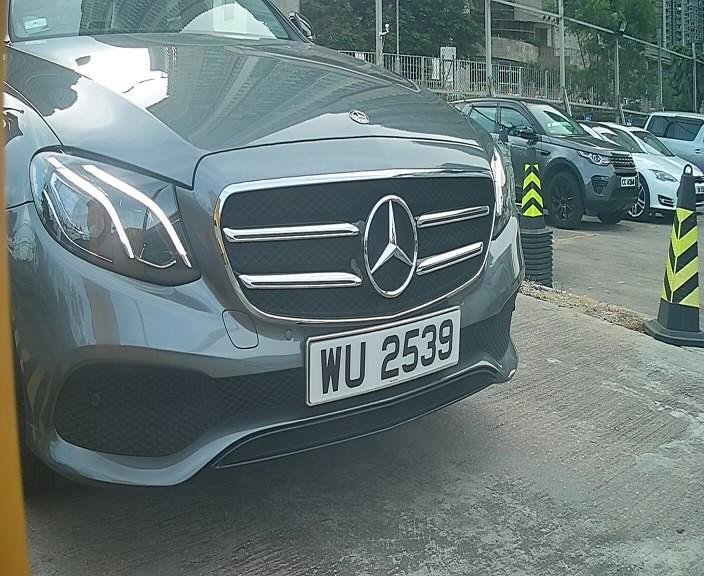privatecar: (1, 3, 546, 543)
